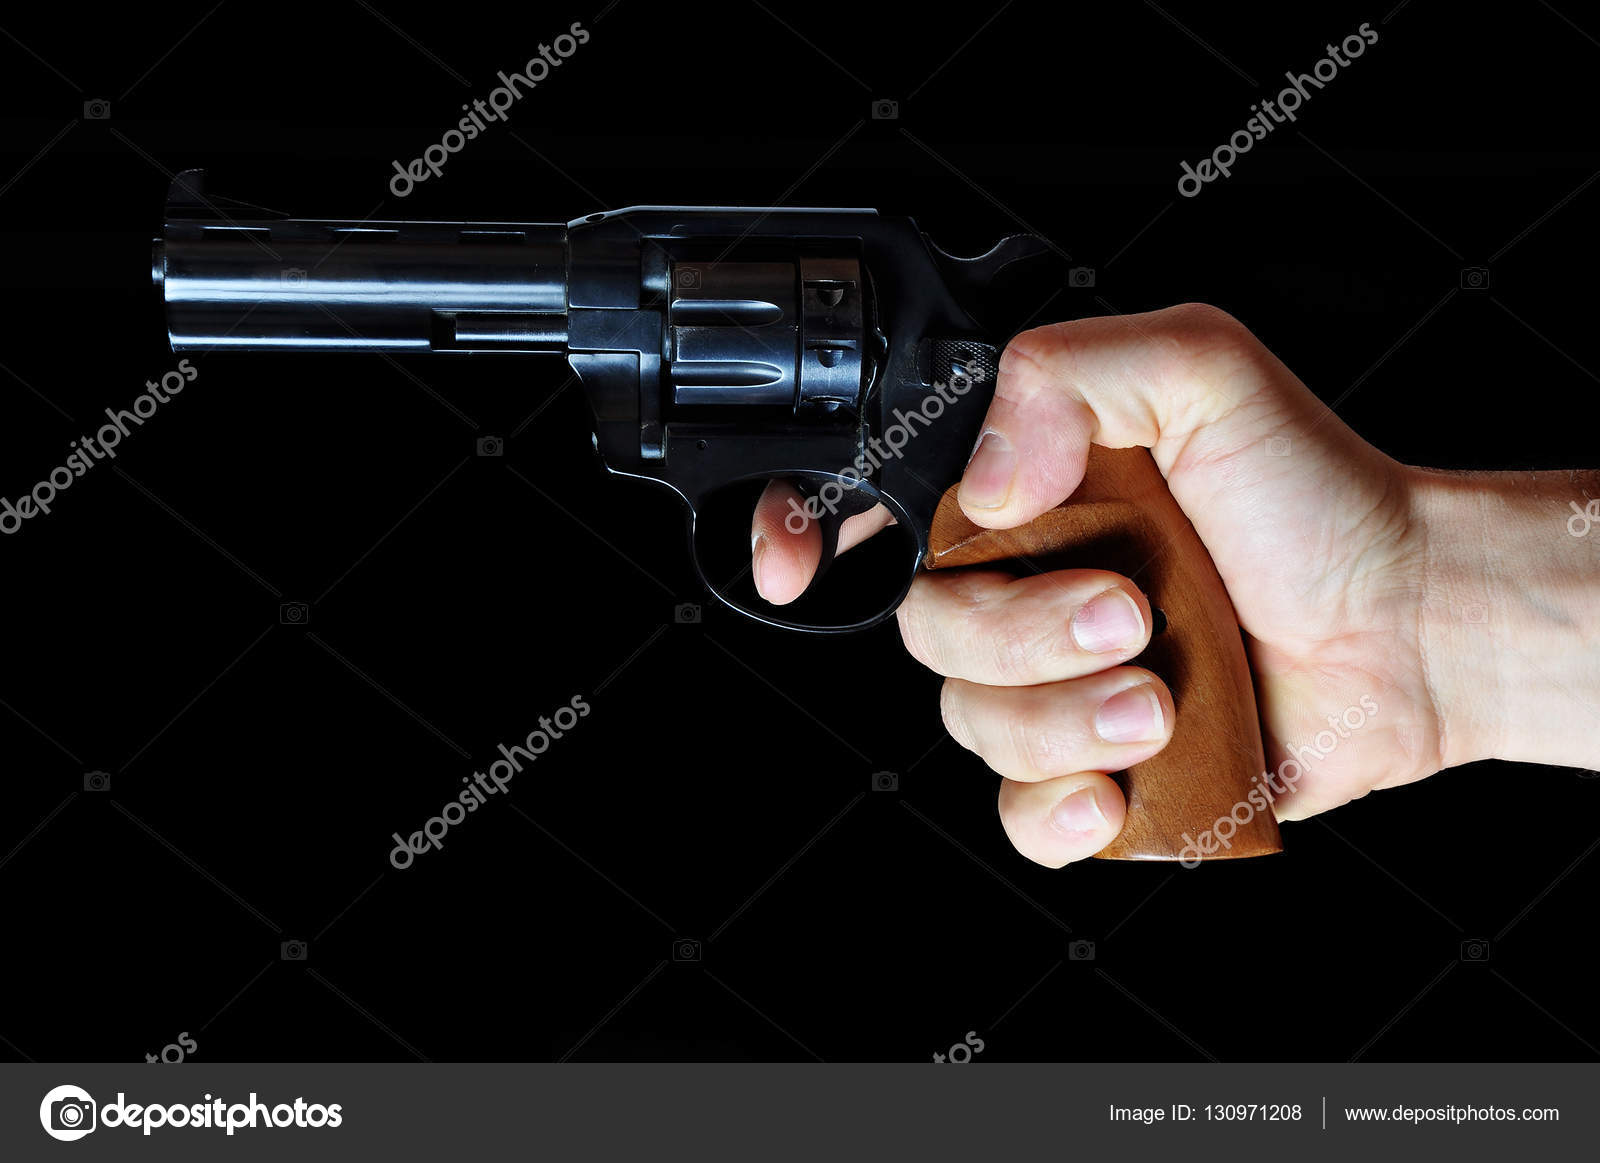Revolver: (138, 150, 1273, 911)
